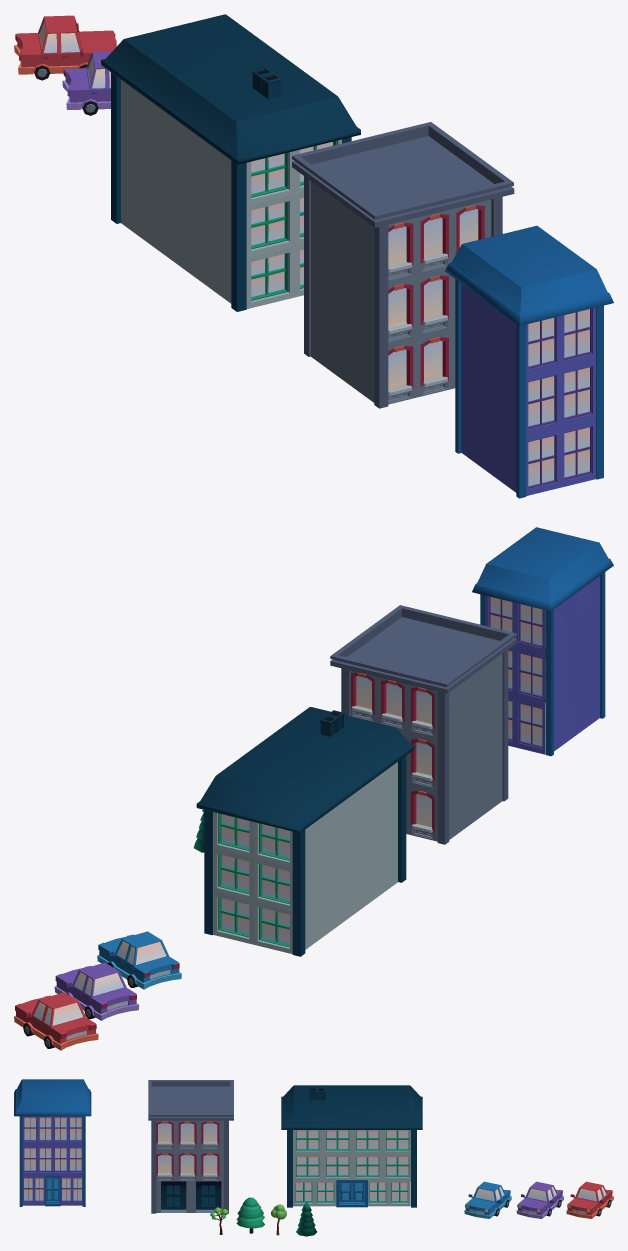
File: helicopter_environment.fbx
The picture shows the model from 3 angles, top to bottom: view 1: azimuth 30°, elevation 25°; view 2: azimuth 150°, elevation 25°; view 3: azimuth 270°, elevation 25°; orthographic projection. The views are drawn at different scales.
Parts seen in each view (by area): view 1: bina3, bina2, bina1, araba3, araba1; view 2: bina3, bina2, bina1, araba3, araba2, araba1; view 3: bina3, bina2, bina1, araba2, araba3, araba1, agac3, agac1.
Part boxes in pixels (x1,y1,x2,y2): bina3: [101, 14, 360, 311]; bina2: [292, 122, 514, 408]; bina1: [445, 225, 613, 498]; araba3: [14, 15, 116, 80]; araba1: [62, 51, 111, 115]; bina3: [196, 707, 414, 956]; bina2: [330, 605, 516, 844]; bina1: [472, 527, 613, 756]; araba3: [14, 992, 98, 1050]; araba2: [97, 931, 181, 989]; araba1: [54, 962, 139, 1020]; bina3: [281, 1085, 422, 1207]; bina2: [148, 1080, 233, 1213]; bina1: [14, 1079, 91, 1206]; araba2: [464, 1181, 511, 1218]; araba3: [566, 1181, 613, 1218]; araba1: [516, 1181, 563, 1218]; agac3: [236, 1197, 264, 1233]; agac1: [296, 1201, 316, 1236].
Size of the model in its own units: 819 by 683 by 3430.
Materials: 10 (10 with a texture image).
